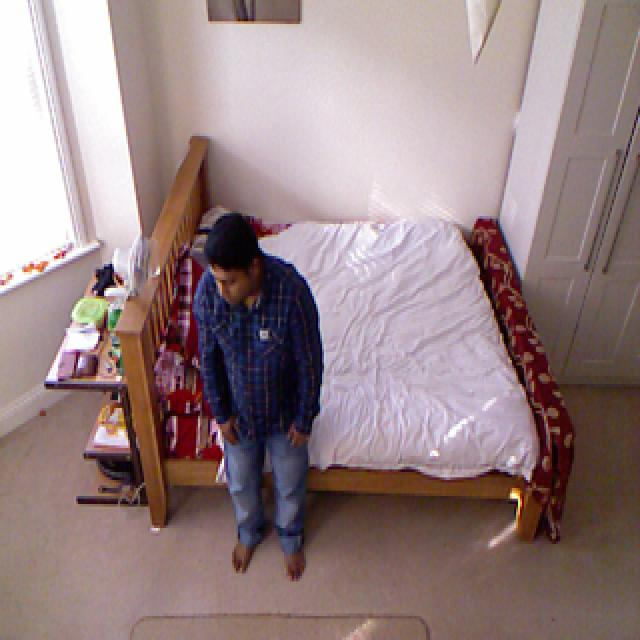standing: (184, 203, 322, 596)
